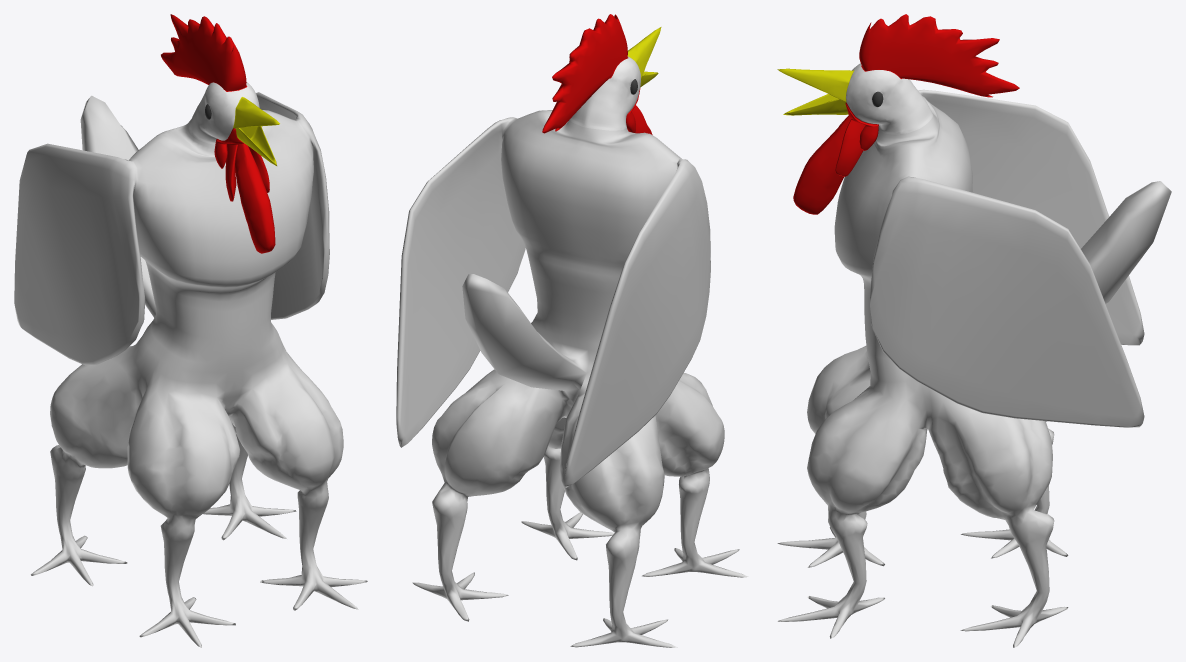
The model's file is chicken_form4.fbx.
3 views of the same model, side by side, from view 1: azimuth 30°, elevation 25°; view 2: azimuth 150°, elevation 25°; view 3: azimuth 270°, elevation 25° (orthographic).
Visible parts, largest first — view 1: polySurface5; view 2: polySurface5; view 3: polySurface5.
Boxes of the visible parts, left/top/right/bottom form: polySurface5: left=14, top=14, right=367, bottom=647; polySurface5: left=396, top=14, right=747, bottom=647; polySurface5: left=777, top=14, right=1171, bottom=647.
Bounding box in the file's own units: 157 × 317 × 199.
